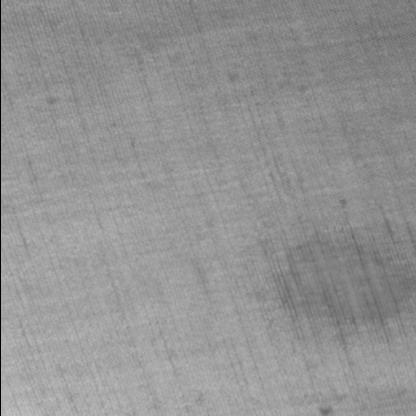oil spot: (267, 236, 411, 329)
